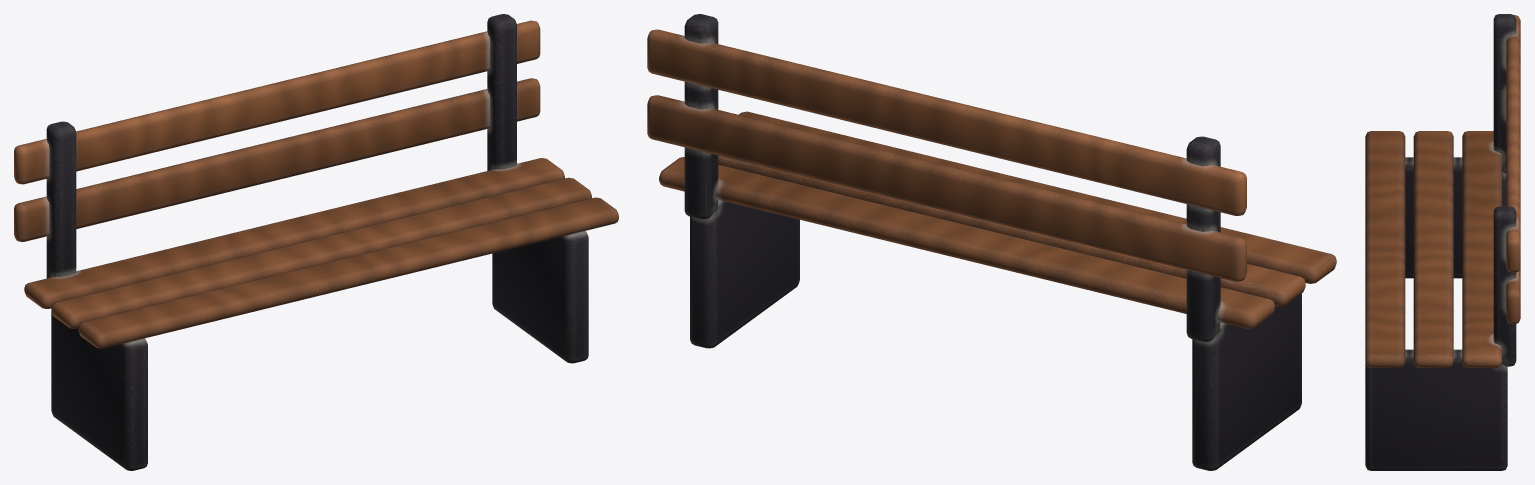
File: rc_bench.glb
3 renders of one model, left to right at view 1: azimuth 30°, elevation 25°; view 2: azimuth 150°, elevation 25°; view 3: azimuth 270°, elevation 25°, orthographic. The views are drawn at different scales.
Parts seen in each view (by area): view 1: rc_bench; view 2: rc_bench; view 3: rc_bench.
Part boxes in pixels (<box>): rc_bench: <box>14,14,618,470</box>; rc_bench: <box>647,14,1336,470</box>; rc_bench: <box>1365,14,1520,470</box>.
Size of the model in its own units: 1.9 by 1 by 0.545.
Materials: 2 (2 with a texture image).
